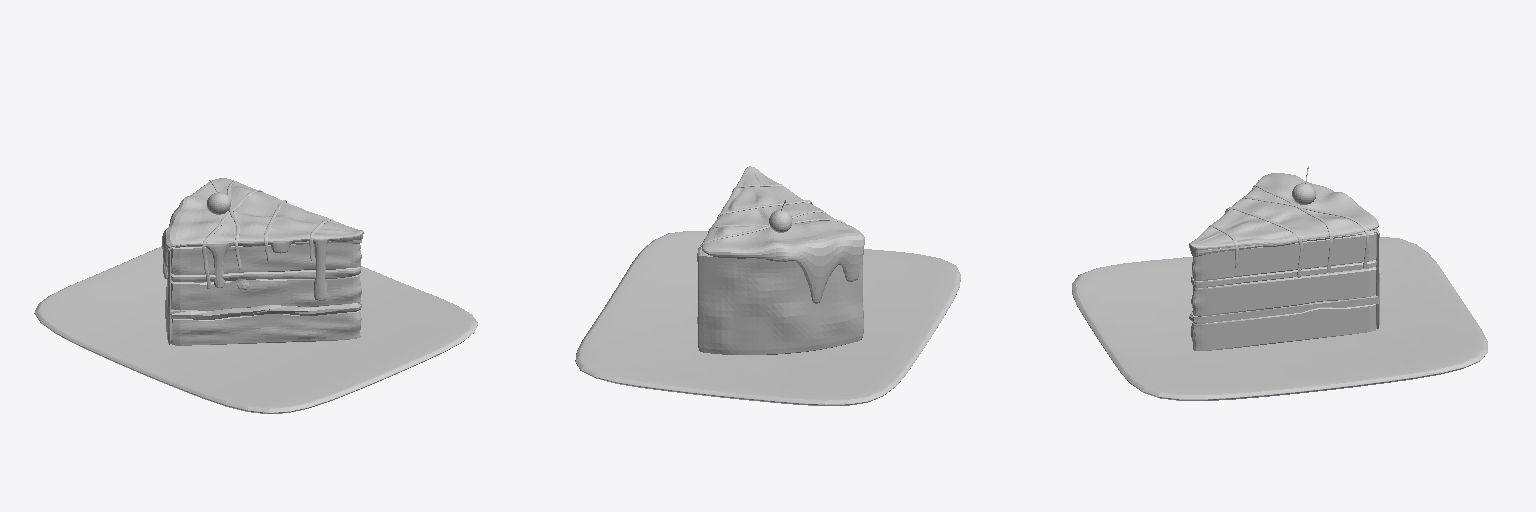
Rendered from cake.obj.
The picture shows the model from 3 angles: view 1: azimuth 30°, elevation 25°; view 2: azimuth 150°, elevation 25°; view 3: azimuth 270°, elevation 25°; orthographic projection.
Parts seen in each view (by area): view 1: Box001, Object001, Cylinder001, Cylinder003, Cylinder005, Cylinder002, Cylinder004, Cylinder006; view 2: Box001, Cylinder006, Object001; view 3: Box001, Object001, Cylinder003, Cylinder001, Cylinder005, Cylinder002, Cylinder004, Cylinder006.
Boxes of the visible parts, <box> form: Box001: <box>34,246,477,413</box>; Object001: <box>162,178,363,300</box>; Cylinder001: <box>171,310,361,345</box>; Cylinder003: <box>171,274,361,310</box>; Cylinder005: <box>171,243,361,274</box>; Cylinder002: <box>170,302,361,319</box>; Cylinder004: <box>171,267,360,290</box>; Cylinder006: <box>165,239,361,344</box>; Box001: <box>575,231,960,405</box>; Cylinder006: <box>698,246,863,354</box>; Object001: <box>702,166,864,303</box>; Box001: <box>1072,237,1487,400</box>; Object001: <box>1189,173,1378,251</box>; Cylinder003: <box>1191,267,1376,316</box>; Cylinder001: <box>1191,304,1376,350</box>; Cylinder005: <box>1192,233,1376,280</box>; Cylinder002: <box>1189,295,1378,323</box>; Cylinder004: <box>1191,260,1376,287</box>; Cylinder006: <box>1191,228,1379,328</box>.
Bounding box in the file's own units: 18.84 × 8.04 × 20.47.